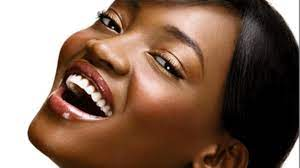s.black: (127, 72, 207, 152)
